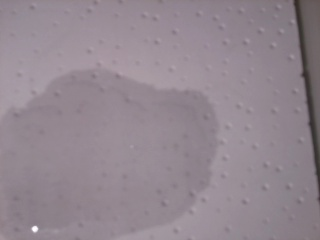Water_detected: (20, 87, 181, 226)
